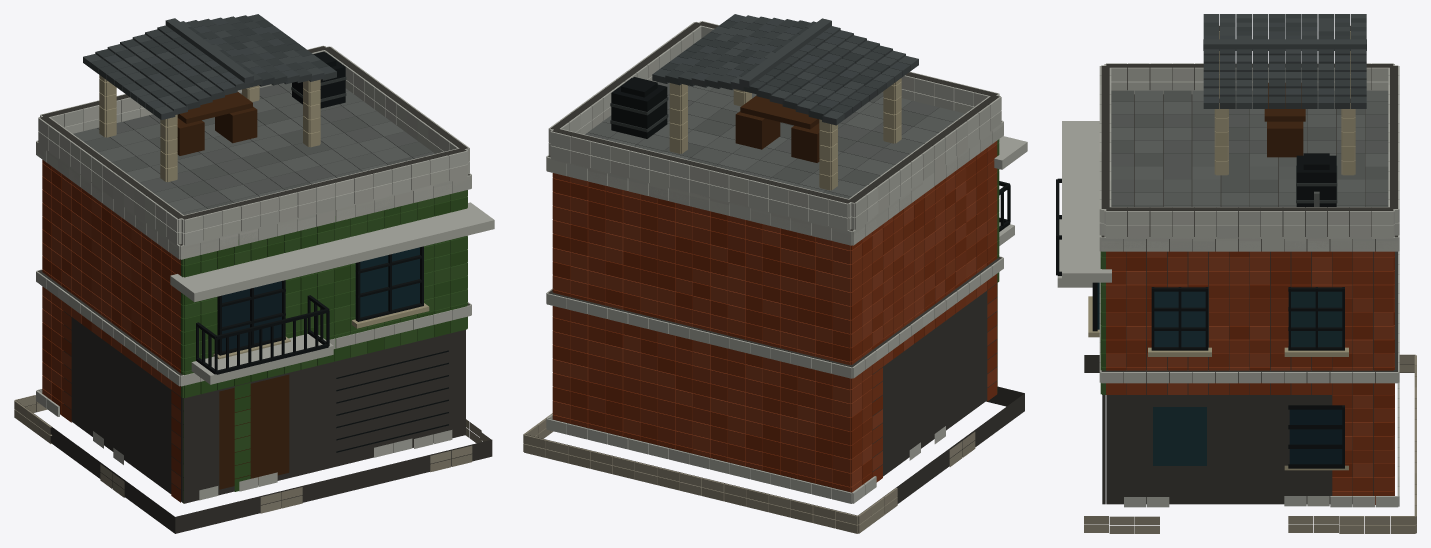
The model's file is SM_StreetFrontage_045.fbx.
The picture shows the model from 3 angles, left to right: view 1: azimuth 30°, elevation 25°; view 2: azimuth 150°, elevation 25°; view 3: azimuth 270°, elevation 25°; orthographic projection. The views are drawn at different scales.
Parts seen in each view (by area): view 1: SM_StreetFrontage_045; view 2: SM_StreetFrontage_045; view 3: SM_StreetFrontage_045.
Boxes of the visible parts, x1,y1,x2,y2 form: SM_StreetFrontage_045: [14, 14, 494, 533]; SM_StreetFrontage_045: [523, 14, 1027, 533]; SM_StreetFrontage_045: [1056, 14, 1416, 533].
Bounding box in the file's own units: 8 × 7.53 × 9.15.
